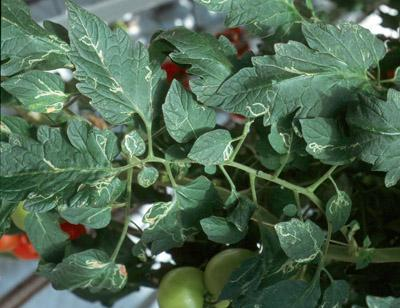Leaf_Miner: (203, 18, 387, 126), (66, 0, 169, 127), (0, 113, 125, 214), (299, 91, 400, 188), (162, 76, 217, 144), (51, 248, 127, 297), (0, 69, 68, 114), (274, 217, 328, 265), (187, 129, 236, 167)
